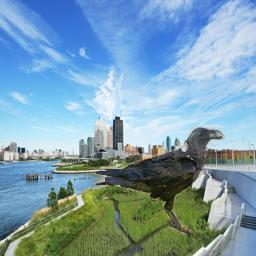Crow: (94, 127, 225, 235)
